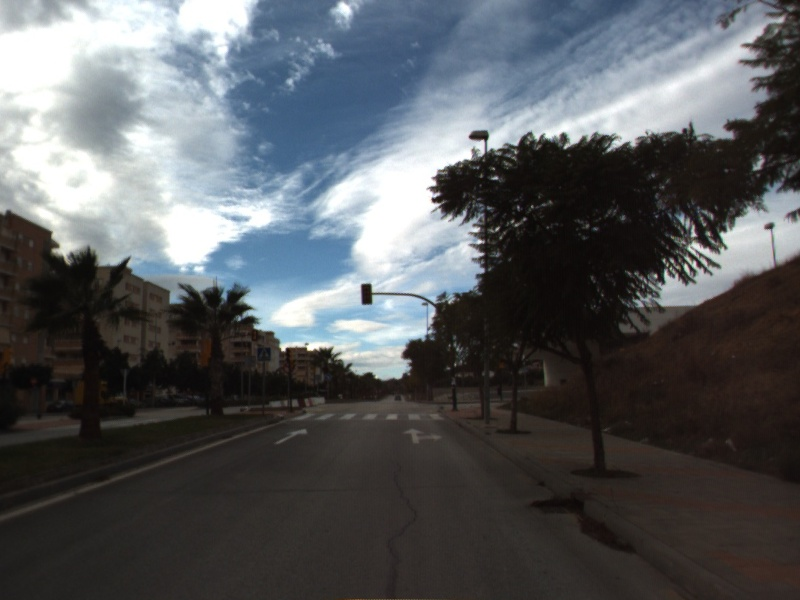STRAIGHT: (272, 426, 310, 447)
STRAIGHT_RIGHT: (400, 426, 445, 446)
